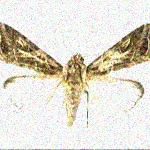Spodoptera litura: (0, 21, 149, 134)
